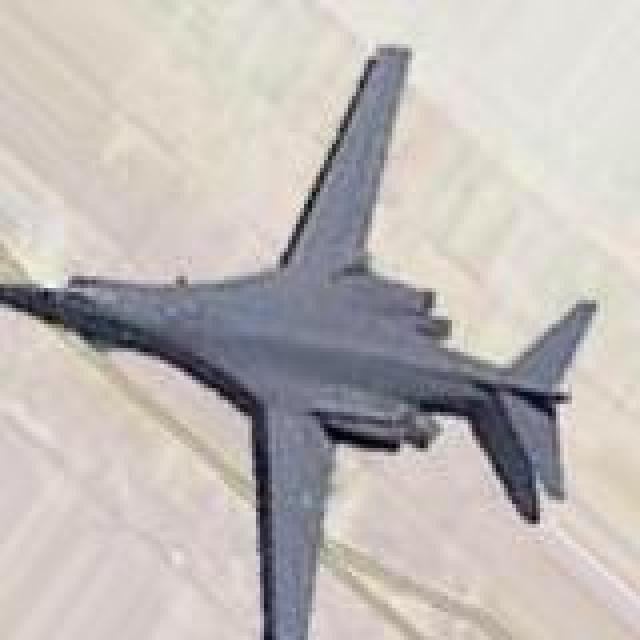B-1_TopDown: (0, 36, 600, 636)
